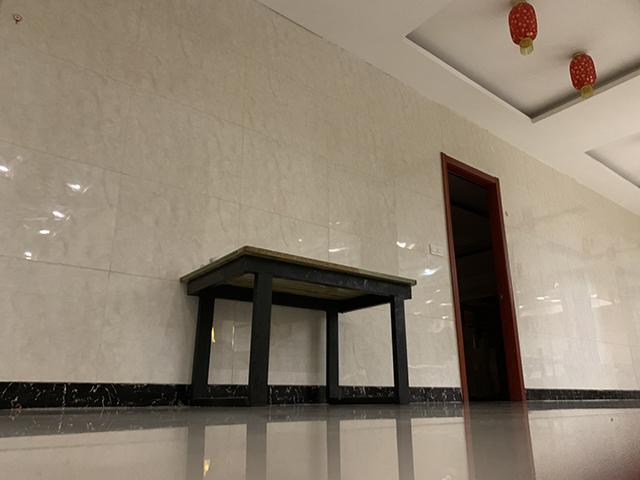table: (177, 244, 419, 410)
